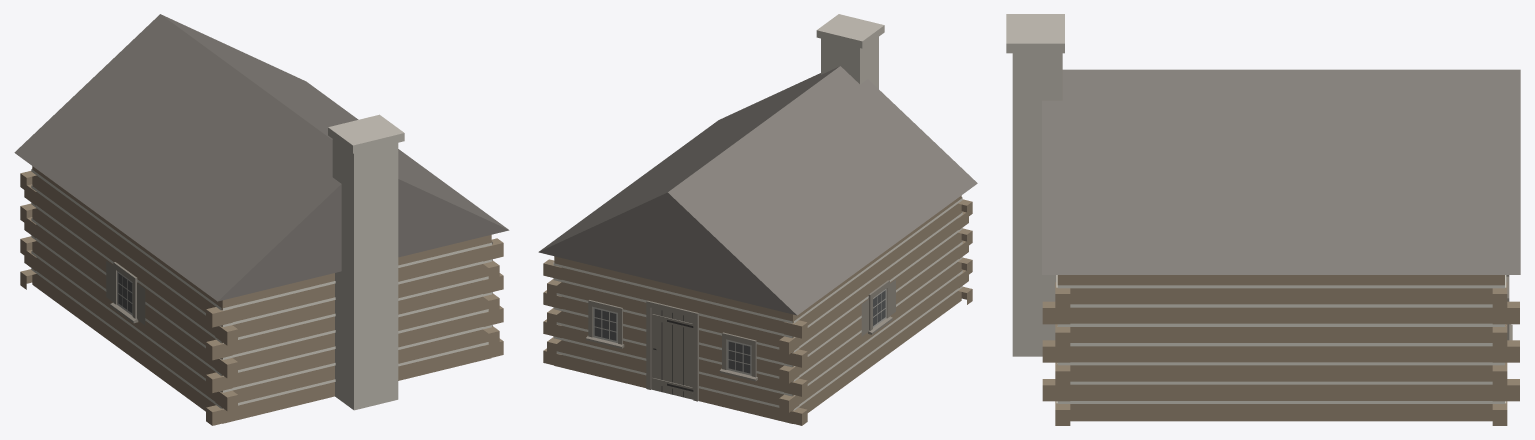
File: recon_1835_north_d1_023__inferred_1835.glb
The picture shows the model from 3 angles, left to right: view 1: azimuth 30°, elevation 25°; view 2: azimuth 150°, elevation 25°; view 3: azimuth 270°, elevation 25°; orthographic projection. The views are drawn at different scales.
Visible parts, largest first — view 1: recon_1835_north_d1_023__inferred_1835; view 2: recon_1835_north_d1_023__inferred_1835; view 3: recon_1835_north_d1_023__inferred_1835.
Boxes of the visible parts, bbox=[...] form: recon_1835_north_d1_023__inferred_1835: bbox=[14, 14, 509, 425]; recon_1835_north_d1_023__inferred_1835: bbox=[538, 14, 977, 425]; recon_1835_north_d1_023__inferred_1835: bbox=[1006, 14, 1520, 425].
Bounding box in the file's own units: 6.34 × 5.55 × 8.22.
